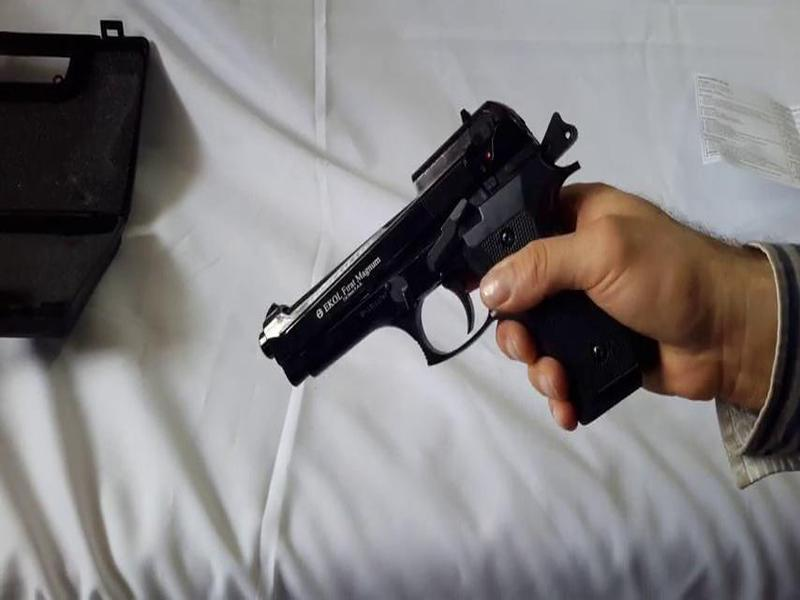Pistola: (223, 93, 617, 448)
